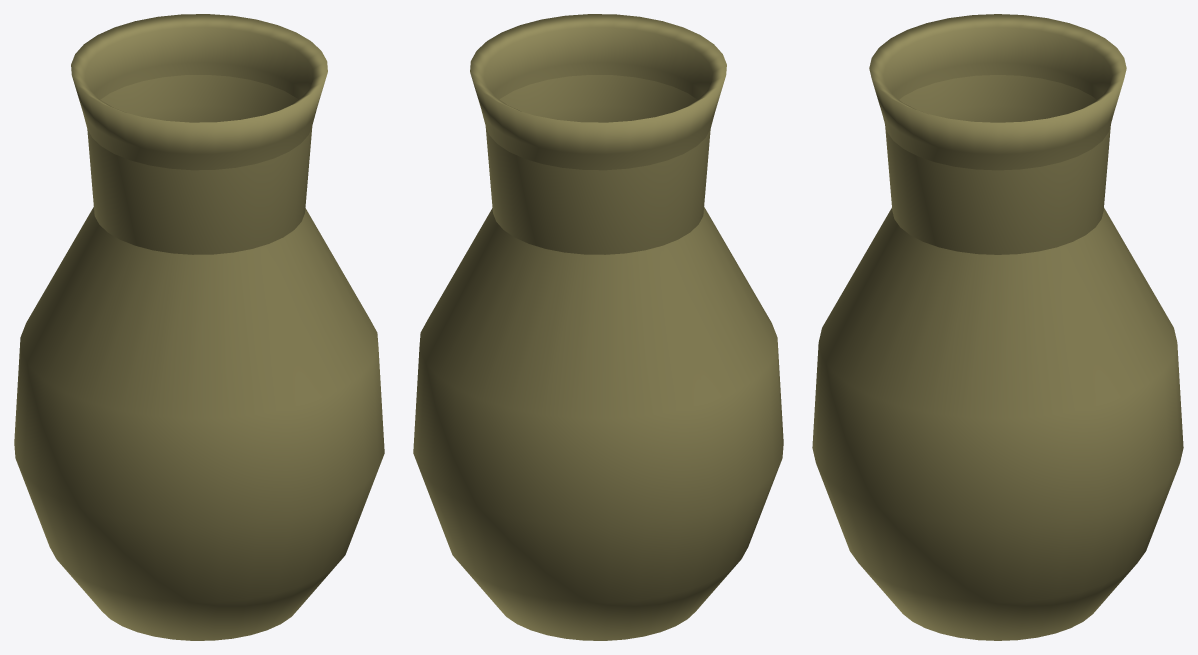
The model's file is ruukku.fbx.
3 renders of one model, left to right at view 1: azimuth 30°, elevation 25°; view 2: azimuth 150°, elevation 25°; view 3: azimuth 270°, elevation 25°, orthographic.
Parts seen in each view (by area): view 1: Circle; view 2: Circle; view 3: Circle.
Part boxes in pixels (x1,y1,x2,y2): Circle: (14, 14, 384, 640); Circle: (413, 14, 783, 640); Circle: (812, 14, 1183, 640).
Size of the model in its own units: 1.88 by 2.96 by 1.88.
